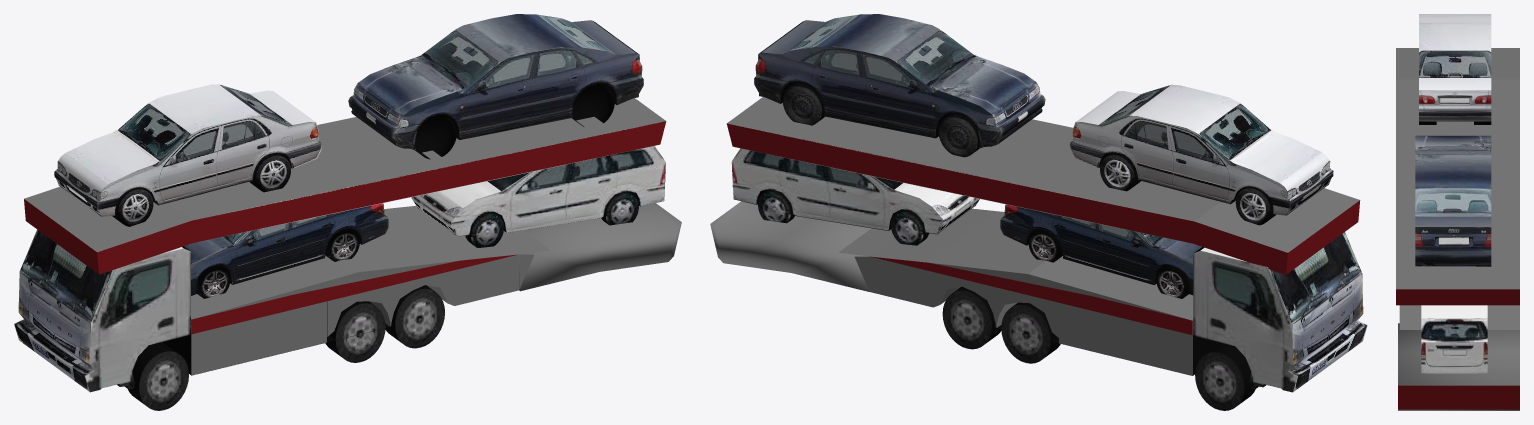
Rendered from large_truck.glb.
3 views of the same model, side by side, from view 1: azimuth 30°, elevation 25°; view 2: azimuth 150°, elevation 25°; view 3: azimuth 270°, elevation 25° (orthographic). The views are drawn at different scales.
Visible parts, largest first — view 1: Object_3, Object_2, Object_4, Object_6, Object_5; view 2: Object_3, Object_2, Object_4, Object_6, Object_5; view 3: Object_3, Object_2, Object_4, Object_6.
Part boxes in pixels (bbox=[...]): Object_3: bbox=[14, 98, 681, 410]; Object_2: bbox=[348, 14, 643, 159]; Object_4: bbox=[54, 84, 321, 226]; Object_6: bbox=[411, 146, 665, 247]; Object_5: bbox=[184, 203, 388, 298]; Object_3: bbox=[710, 97, 1367, 410]; Object_2: bbox=[754, 14, 1045, 157]; Object_4: bbox=[1069, 84, 1333, 225]; Object_6: bbox=[731, 148, 979, 245]; Object_5: bbox=[1000, 204, 1201, 298]; Object_3: bbox=[1396, 48, 1519, 410]; Object_2: bbox=[1415, 135, 1491, 266]; Object_4: bbox=[1419, 14, 1491, 124]; Object_6: bbox=[1421, 305, 1487, 373].
Bounding box in the file's own units: 7.3 × 3.06 × 1.55.
Materials: 5 (5 with a texture image).
